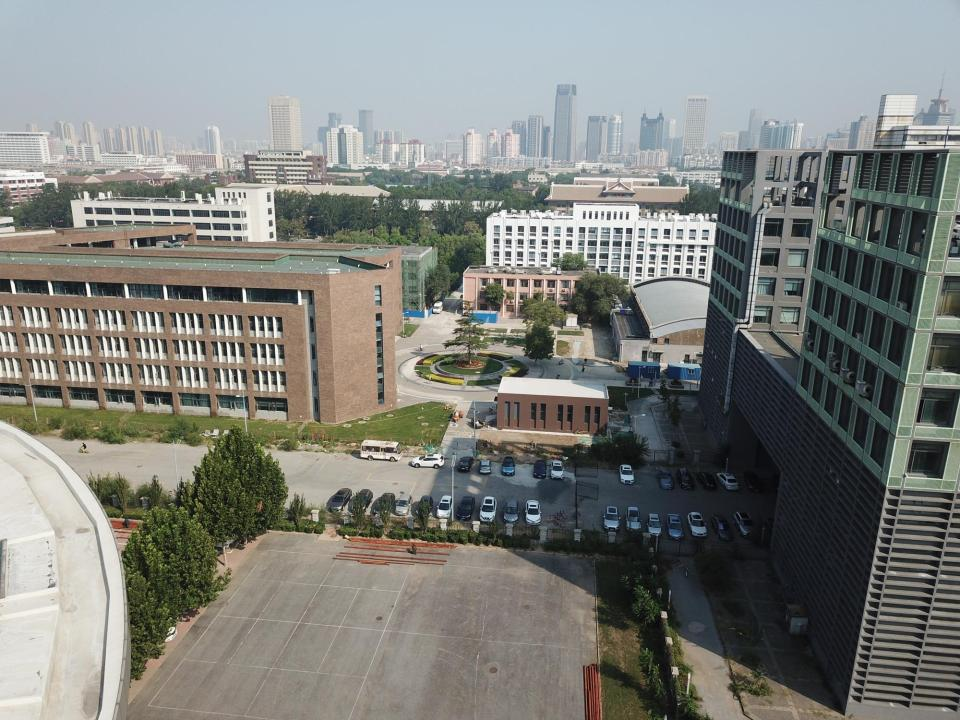bus: (360, 440, 403, 461)
car: (211, 516, 243, 549), (711, 513, 735, 542), (733, 512, 758, 537), (329, 488, 352, 512), (352, 488, 373, 513), (666, 514, 686, 540), (688, 512, 708, 537), (374, 492, 395, 515), (603, 506, 621, 532), (479, 496, 497, 522), (457, 496, 476, 520), (502, 499, 520, 524), (412, 454, 444, 468), (625, 506, 642, 532), (676, 468, 696, 489), (525, 501, 542, 525), (716, 472, 739, 489), (436, 496, 453, 518), (416, 495, 434, 515), (646, 514, 663, 535), (396, 494, 413, 515), (696, 472, 717, 489), (658, 470, 674, 489), (501, 456, 516, 476), (550, 460, 565, 479), (620, 464, 634, 484), (458, 456, 475, 471), (533, 460, 547, 478), (479, 460, 492, 474)
truck: (471, 417, 484, 428)
van: (433, 301, 442, 314)
